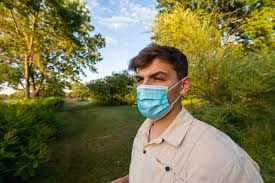with-mask: (132, 50, 191, 119)
